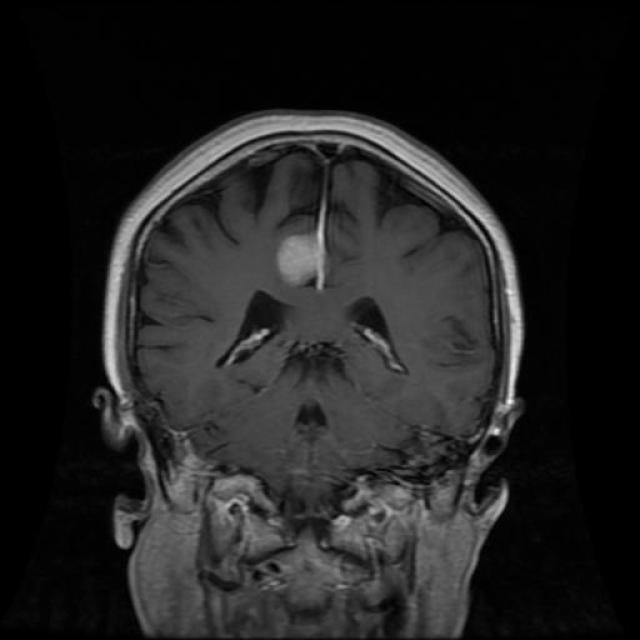meningioma: (278, 234, 318, 288)
